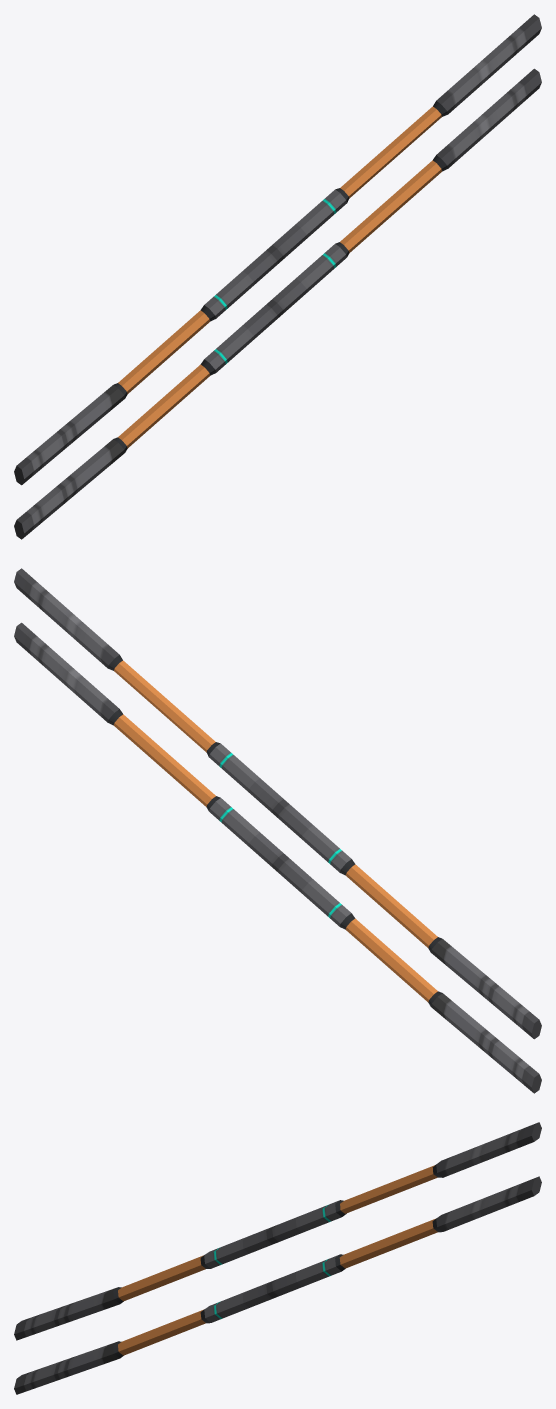
Rendered from SM_Bld_Railing_Rail_Stairs_01.fbx.
The picture shows the model from 3 angles, top to bottom: view 1: azimuth 30°, elevation 25°; view 2: azimuth 150°, elevation 25°; view 3: azimuth 330°, elevation 25°; orthographic projection.
Parts seen in each view (by area): view 1: SM_Bld_Railing_Rail_Stairs_01; view 2: SM_Bld_Railing_Rail_Stairs_01; view 3: SM_Bld_Railing_Rail_Stairs_01.
Part boxes in pixels (box(x1,y1,x2,y2)): SM_Bld_Railing_Rail_Stairs_01: box(14, 14, 541, 539); SM_Bld_Railing_Rail_Stairs_01: box(14, 568, 541, 1093); SM_Bld_Railing_Rail_Stairs_01: box(14, 1122, 541, 1394).
Bounding box in the file's own units: 250 × 182 × 8.59.
